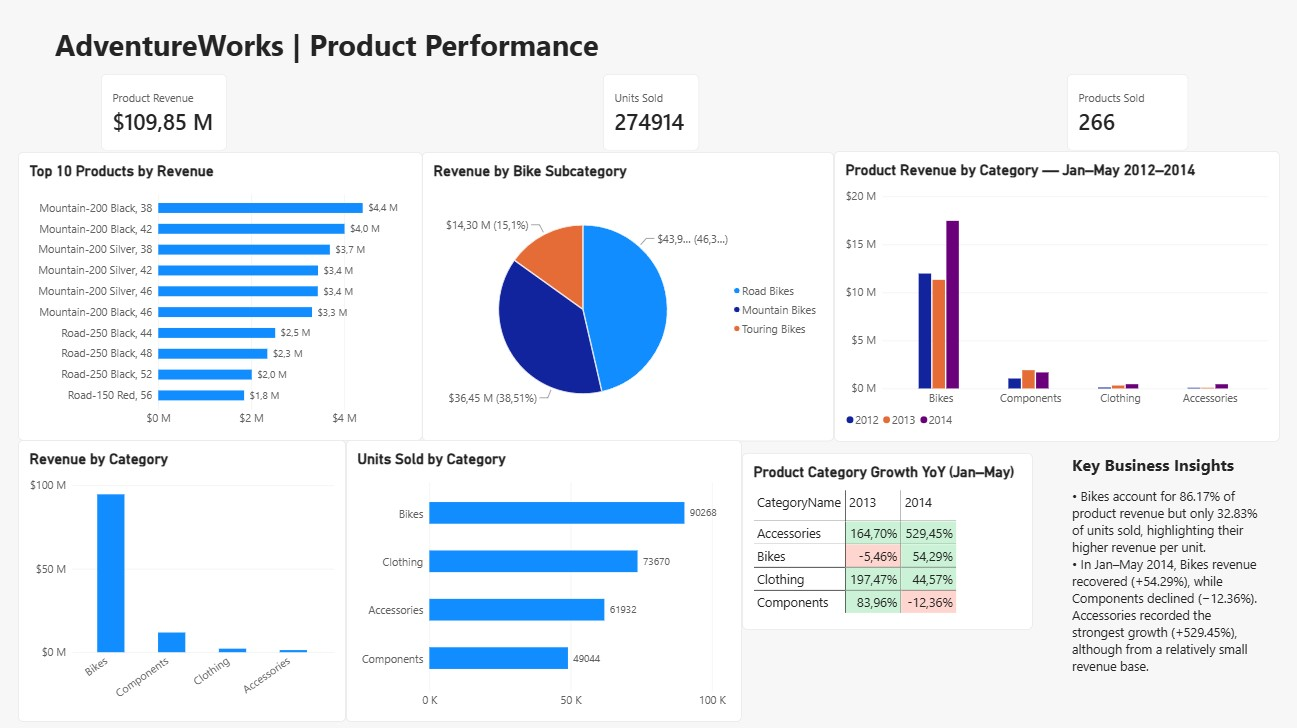

What the dashboard file says about the page in this screenshot:
{"tool":"powerbi","page":{"name":"Product Performance","canvas":[1920,1080],"ordinal":1},"visuals":[{"type":"cardVisual","fields":{"Data":["FactSalesOrderLines.Product Revenue"]},"box":[151,112.1,186.7,113.8],"z":0},{"type":"cardVisual","fields":{"Data":["FactSalesOrderLines.Units Sold"]},"box":[891.2,112.1,142.7,113.8],"z":1000},{"type":"cardVisual","fields":{"Data":["FactSalesOrderLines.Products Sold"]},"box":[1575.9,112.1,179.1,113.8],"z":2000},{"type":"clusteredColumnChart","title":"Revenue by Category","fields":{"Category":["DimProduct.CategoryName"],"Y":["FactSalesOrderLines.Product Revenue"]},"box":[28,652.3,484.1,416.2],"z":3000},{"type":"pieChart","title":"Revenue by Bike Subcategory","fields":{"Category":["DimProduct.SubcategoryName"],"Y":["FactSalesOrderLines.Product Revenue"]},"box":[624.3,227.3,608,426.5],"z":4000},{"type":"textbox","box":[82.6,39.8,830.9,72.3],"z":5000},{"type":"clusteredBarChart","title":"Top 10 Products by Revenue","fields":{"Category":["DimProduct.ProductName"],"Y":["FactSalesOrderLines.Product Revenue"]},"box":[28.3,227.6,596.6,425.5],"z":6000},{"type":"clusteredBarChart","title":"Units Sold by Category","fields":{"Category":["DimProduct.CategoryName"],"Y":["FactSalesOrderLines.Units Sold"]},"box":[512.1,652.3,584.4,416.2],"z":7000},{"type":"pivotTable","title":"Product Category Growth YoY (Jan–May)","fields":{"Columns":["DimDate.Year"],"Rows":["DimProduct.CategoryName"],"Values":["FactSalesOrderLines.Product Category Revenue YoY (%)"]},"box":[1096.5,671.5,429.5,261.2],"z":8000},{"type":"textbox","box":[1583.7,671.1,284.6,399.5],"z":9000},{"type":"clusteredColumnChart","title":"Product Revenue by Category — Jan–May 2012–2014","fields":{"Category":["DimProduct.CategoryName"],"Series":["DimDate.Year"],"Y":["FactSalesOrderLines.Product Revenue Jan-May"]},"box":[1232.3,225.8,658.2,429.5],"z":9001}]}

Visuals, with their boxes in screenshot pixels (x1, y1, x2, y2), scaled from the page's 1920x1080 canvas onto the 1297x728 screenshot:
cardVisual - FactSalesOrderLines.Product Revenue: {"left": 102, "top": 76, "right": 228, "bottom": 152}
cardVisual - FactSalesOrderLines.Units Sold: {"left": 602, "top": 76, "right": 698, "bottom": 152}
cardVisual - FactSalesOrderLines.Products Sold: {"left": 1065, "top": 76, "right": 1186, "bottom": 152}
"Revenue by Category" clusteredColumnChart: {"left": 19, "top": 440, "right": 346, "bottom": 720}
"Revenue by Bike Subcategory" pieChart: {"left": 422, "top": 153, "right": 832, "bottom": 441}
textbox: {"left": 56, "top": 27, "right": 617, "bottom": 76}
"Top 10 Products by Revenue" clusteredBarChart: {"left": 19, "top": 153, "right": 422, "bottom": 440}
"Units Sold by Category" clusteredBarChart: {"left": 346, "top": 440, "right": 741, "bottom": 720}
"Product Category Growth YoY (Jan–May)" pivotTable: {"left": 741, "top": 453, "right": 1031, "bottom": 629}
textbox: {"left": 1070, "top": 452, "right": 1262, "bottom": 722}
"Product Revenue by Category — Jan–May 2012–2014" clusteredColumnChart: {"left": 832, "top": 152, "right": 1277, "bottom": 442}
